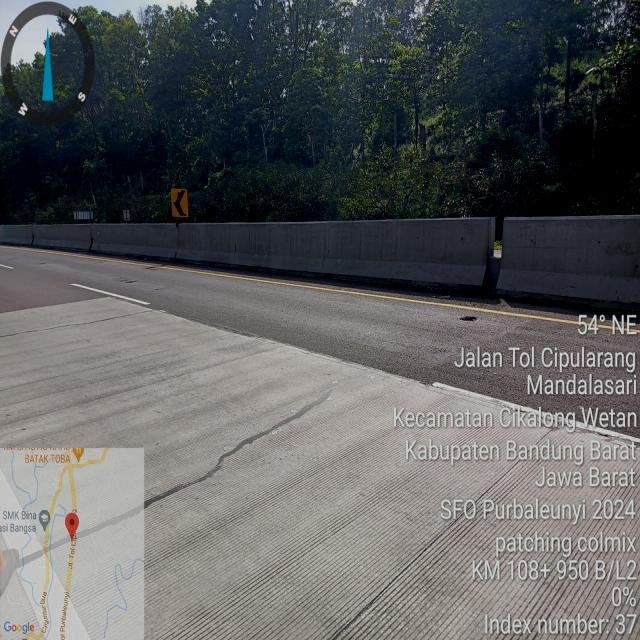Buraco: (458, 314, 480, 324)
